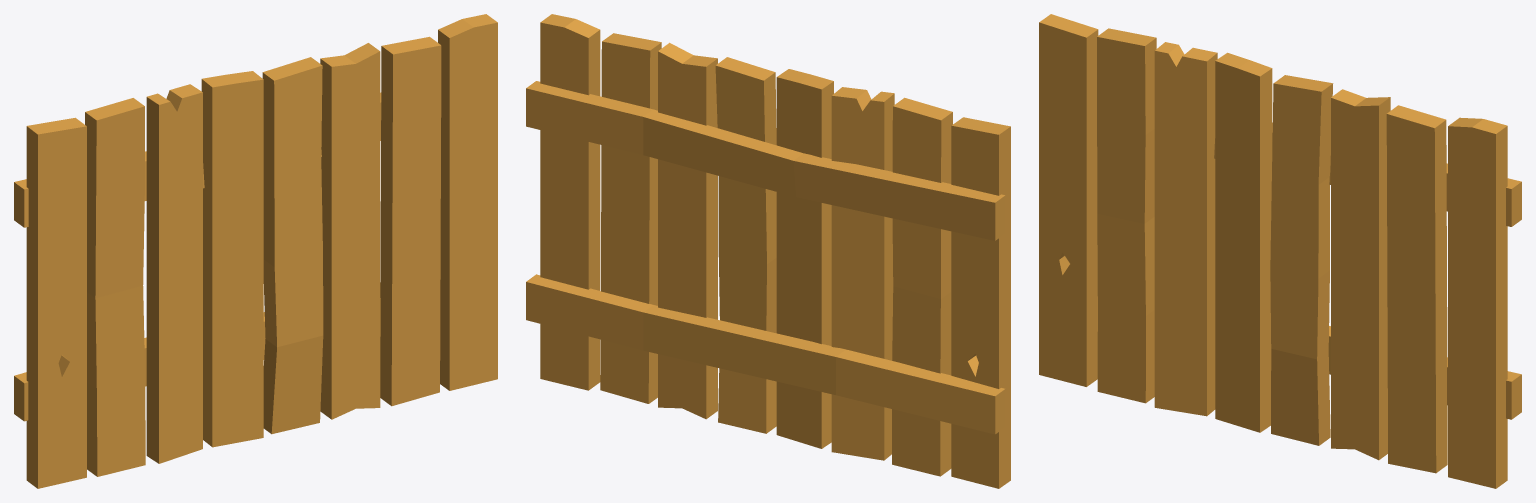
Rendered from fence-classic.glb.
3 renders of one model, left to right at view 1: azimuth 30°, elevation 25°; view 2: azimuth 150°, elevation 25°; view 3: azimuth 330°, elevation 25°, orthographic.
Visible parts, largest first — view 1: fence-classic; view 2: fence-classic; view 3: fence-classic.
Part boxes in pixels (left/top/right/bottom): fence-classic: left=14, top=14, right=497, bottom=488; fence-classic: left=526, top=14, right=1010, bottom=488; fence-classic: left=1039, top=14, right=1521, bottom=488.
Size of the model in its own units: 2 by 1.47 by 0.1922.
